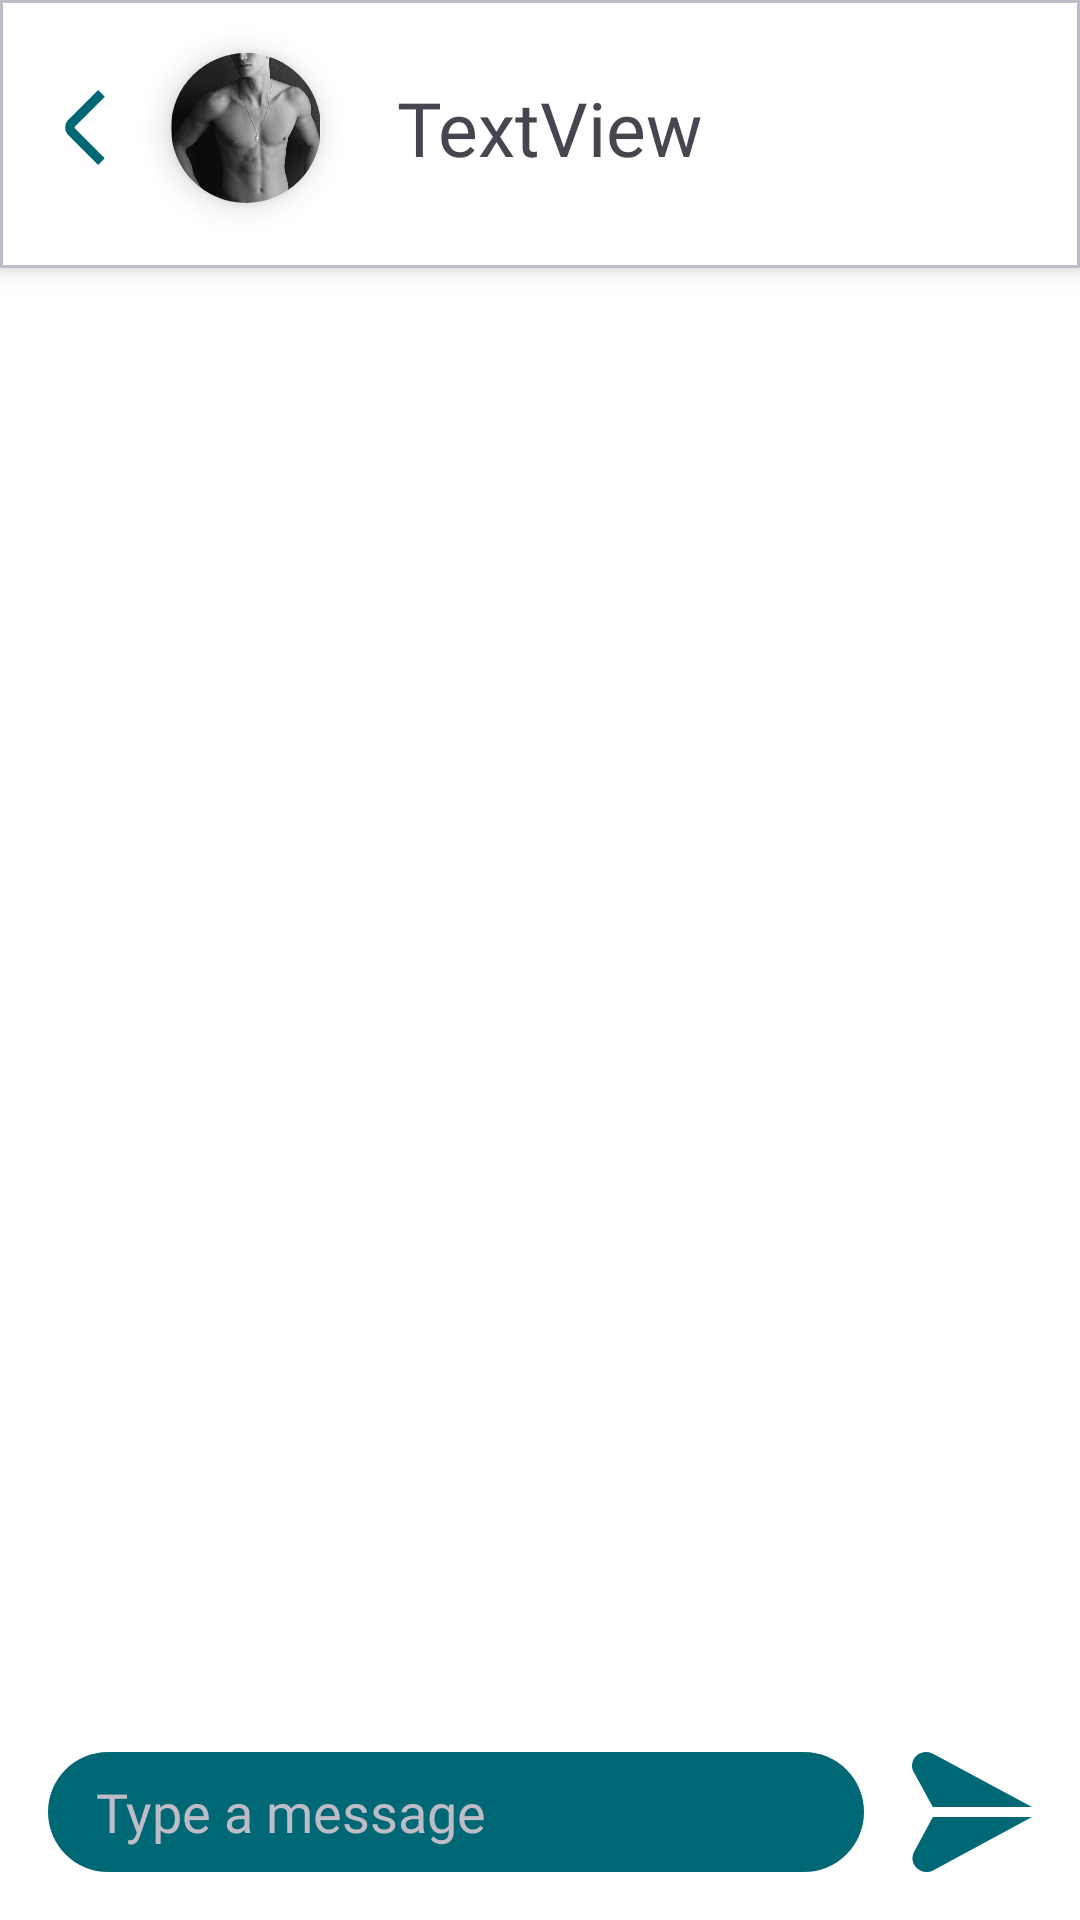

Point at icon controls on the screen. Image size 1080x1920, points as [x,y].
angle left: [85,127]
paper plane top: [972,1812]
